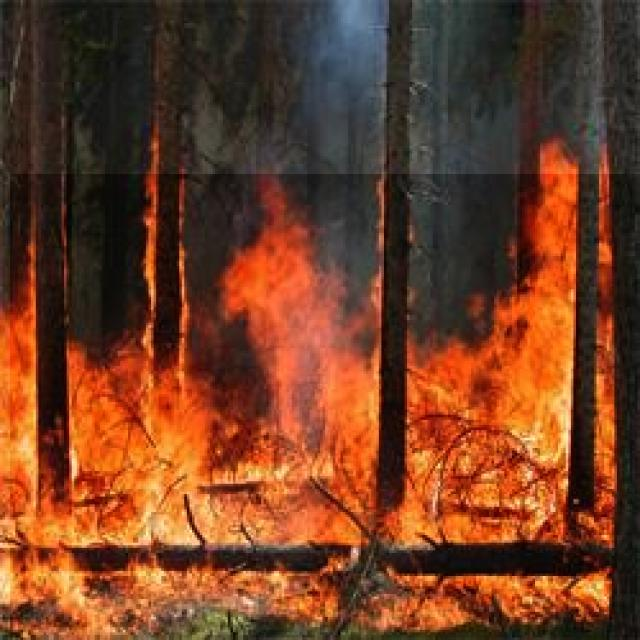Fire: (10, 174, 640, 640)
